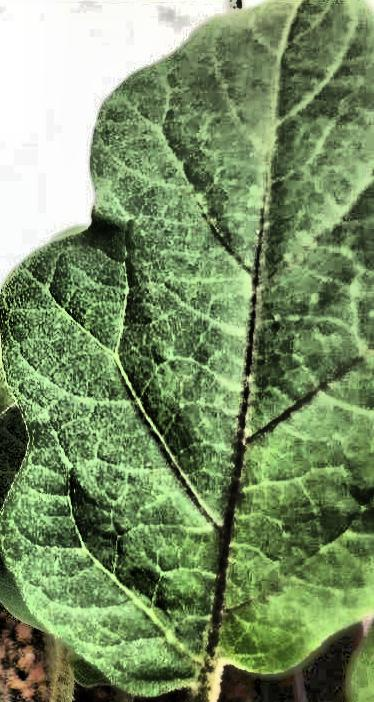HEALTHY: (1, 1, 374, 702)
